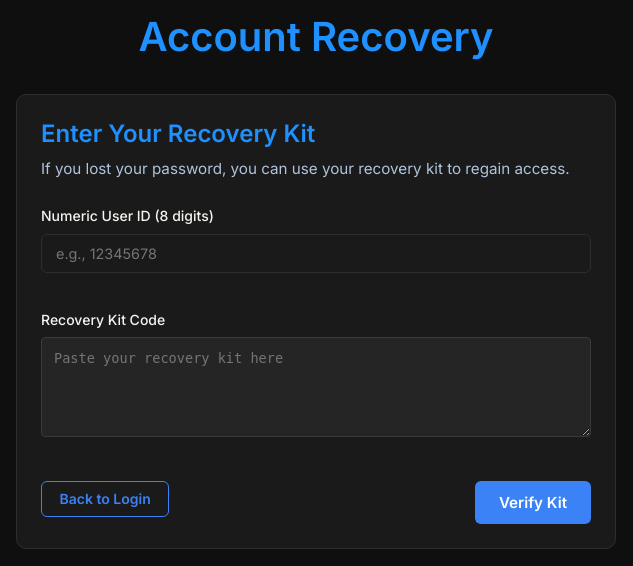
recover.jsx — Account Recovery Page › enter-kit step — validation › advances to set-password step when both fields are filled
Step 1. Type "12345678" into the field with placeholder "e.g., 12345678" → (316, 253), box [41,234,591,273]
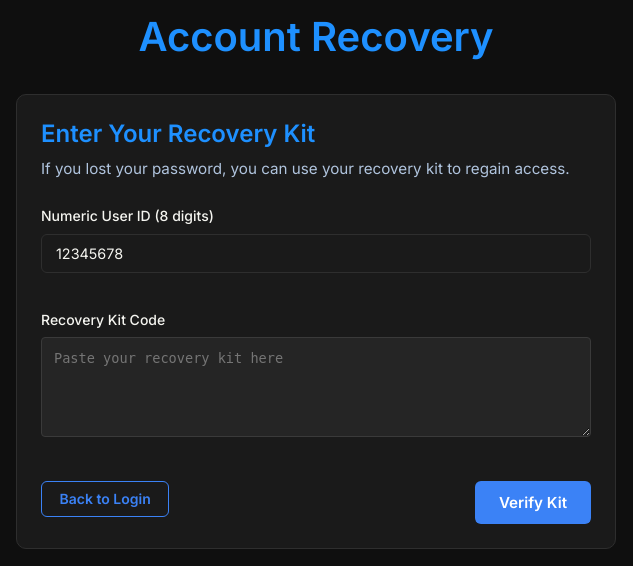
Step 2. Type "ABCD-EFGH-1234-5678" into the text box with placeholder "Paste your recovery kit here" → (316, 387), box [41,337,591,437]
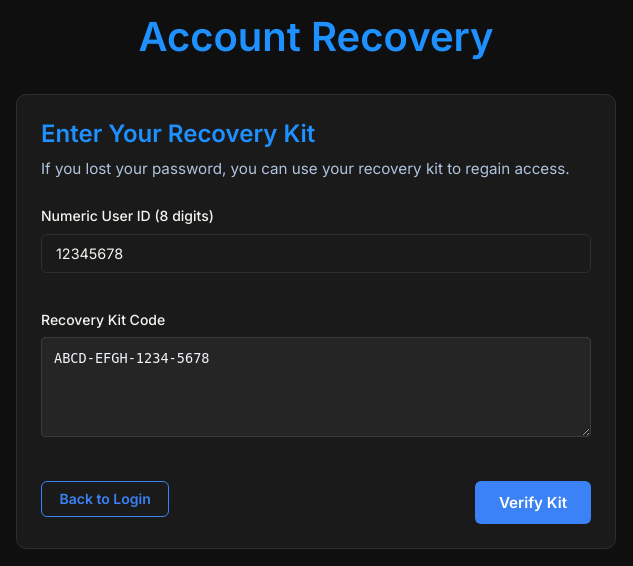
Step 3. Click the button "Verify Kit" → (533, 502), box [475,481,591,524]
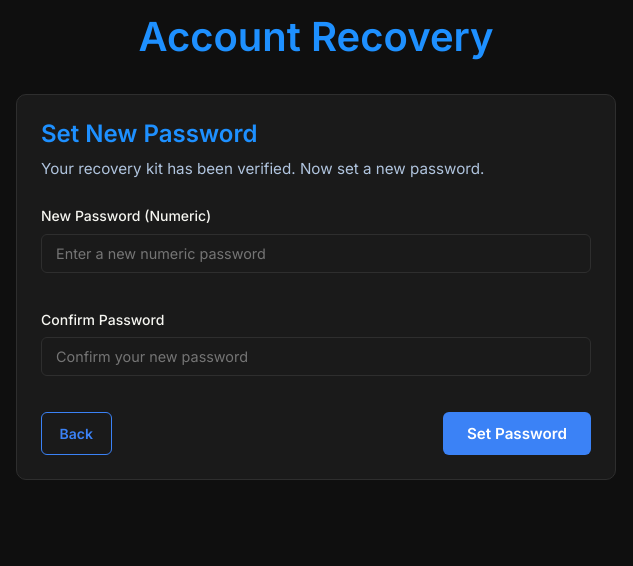
Now the heading "Set New Password" is shown, box [41,119,257,148]
Now the text "Your recovery kit has been verified. Now set a new password." is shown, box [41,159,484,178]
